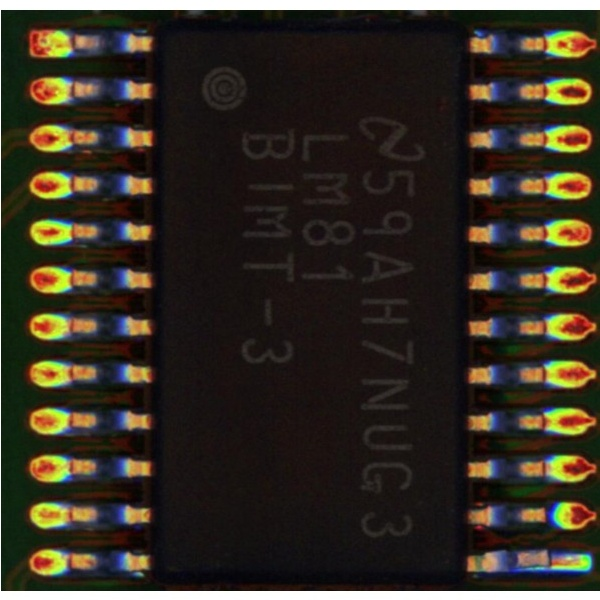Bad_podu: (532, 553, 568, 566)
Bad_qiaojiao: (513, 565, 549, 571)
